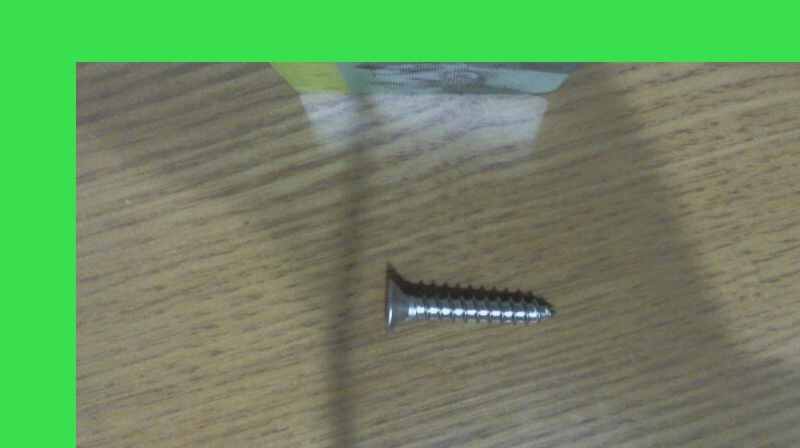S001: (380, 269, 557, 336)
